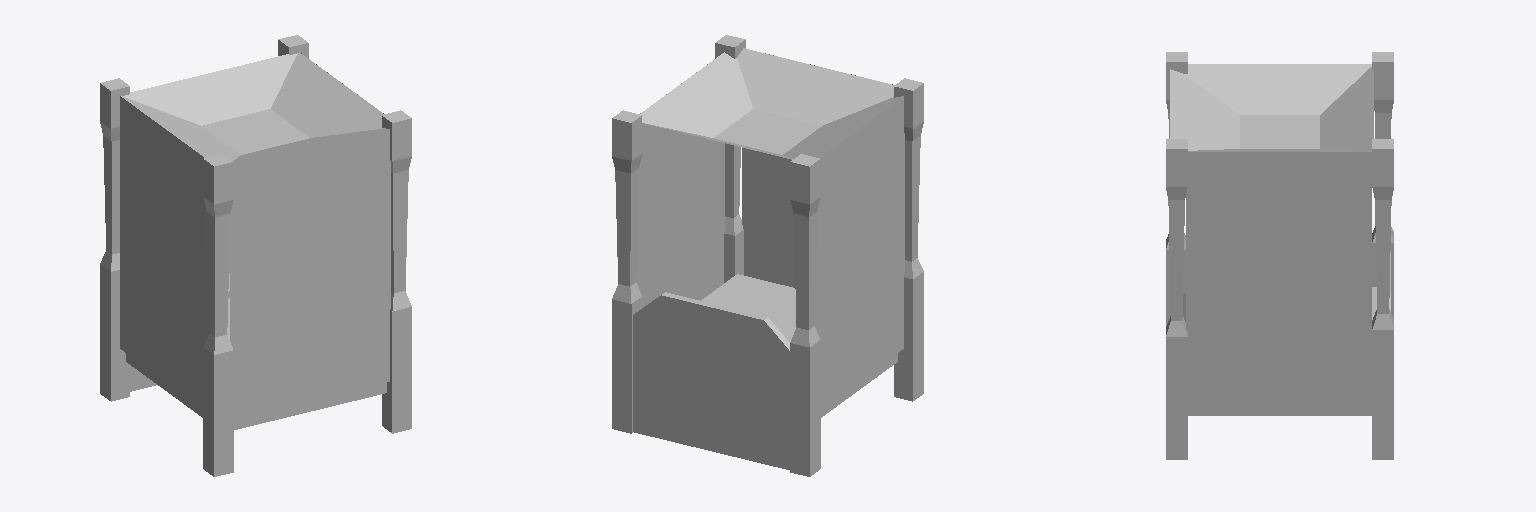
File: hcmw_bed.obj
The picture shows the model from 3 angles: view 1: azimuth 30°, elevation 25°; view 2: azimuth 150°, elevation 25°; view 3: azimuth 270°, elevation 25°; orthographic projection.
Visible parts, largest first — view 1: pbed_cloth_front, pbed_cloth_left, pbed_cloth_top, pbed_post_fl, pbed_post_fr, pbed_back_bl, pbed_post_bl_sm, pbed_base, pbed_post_fl_sm, pbed_post_fr_sm, pbed_post_br; view 2: pbed_backboard, pbed_cloth_left, pbed_cloth_top, pbed_cloth_right, pbed_cloth_front, pbed_back_bl, pbed_post_br, pbed_post_fl, pbed_mattress, pbed_post_fr, pbed_post_bl_sm, pbed_post_br_sm (+2 smaller); view 3: pbed_cloth_right, pbed_cloth_top, pbed_post_fr, pbed_post_br_sm, pbed_post_br, pbed_base, pbed_back_bl, pbed_post_fr_sm, pbed_post_fl.
Part boxes in pixels (x1,y1,x2,y2): pbed_cloth_front: (230, 129, 390, 418); pbed_cloth_left: (120, 96, 209, 408); pbed_cloth_top: (121, 52, 386, 166); pbed_post_fl: (203, 154, 233, 476); pbed_post_fr: (382, 110, 411, 433); pbed_back_bl: (100, 78, 129, 400); pbed_post_bl_sm: (100, 251, 129, 401); pbed_base: (126, 353, 386, 429); pbed_post_fl_sm: (203, 390, 233, 476); pbed_post_fr_sm: (382, 349, 411, 433); pbed_post_br: (278, 35, 308, 58); pbed_backboard: (633, 292, 789, 469); pbed_cloth_left: (814, 96, 904, 408); pbed_cloth_top: (640, 48, 902, 159); pbed_cloth_right: (636, 53, 724, 307); pbed_cloth_front: (742, 53, 892, 287); pbed_back_bl: (790, 154, 820, 475); pbed_post_br: (612, 110, 641, 432); pbed_post_fl: (894, 78, 923, 400); pbed_mattress: (701, 274, 795, 341); pbed_post_fr: (715, 35, 745, 282); pbed_post_bl_sm: (790, 326, 820, 476); pbed_post_br_sm: (612, 283, 641, 433); pbed_cloth_right: (1186, 152, 1371, 403); pbed_cloth_top: (1170, 64, 1373, 151); pbed_post_fr: (1166, 139, 1187, 459); pbed_post_br_sm: (1372, 309, 1393, 459); pbed_post_br: (1372, 139, 1393, 459); pbed_base: (1188, 404, 1371, 415); pbed_back_bl: (1372, 52, 1393, 312); pbed_post_fr_sm: (1166, 380, 1187, 459); pbed_post_fl: (1166, 52, 1187, 324).
Bounding box in the file's own units: 2 × 3 × 2.